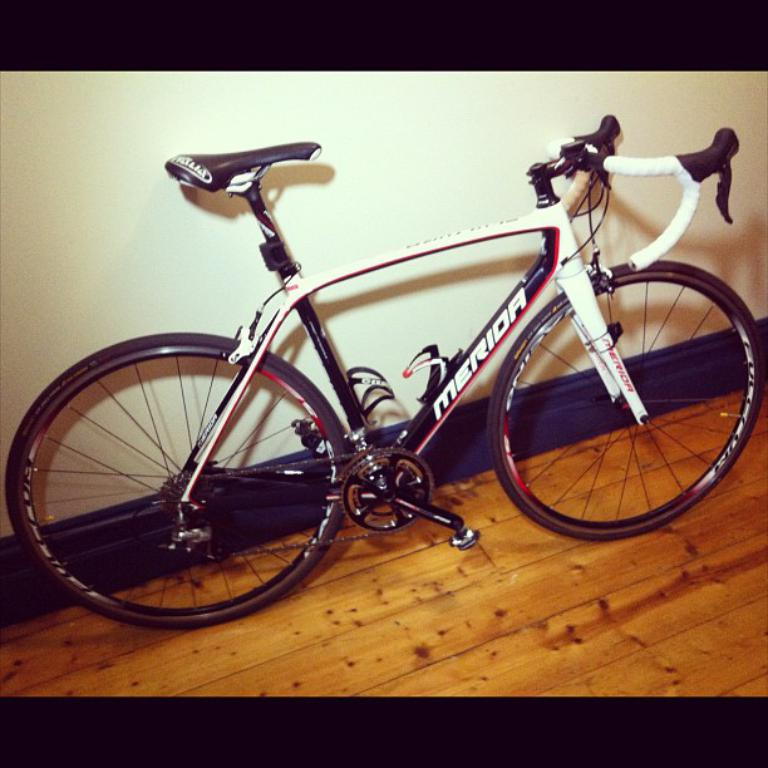Bike: (61, 118, 761, 602)
